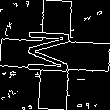M_E: (29, 31, 81, 79)
